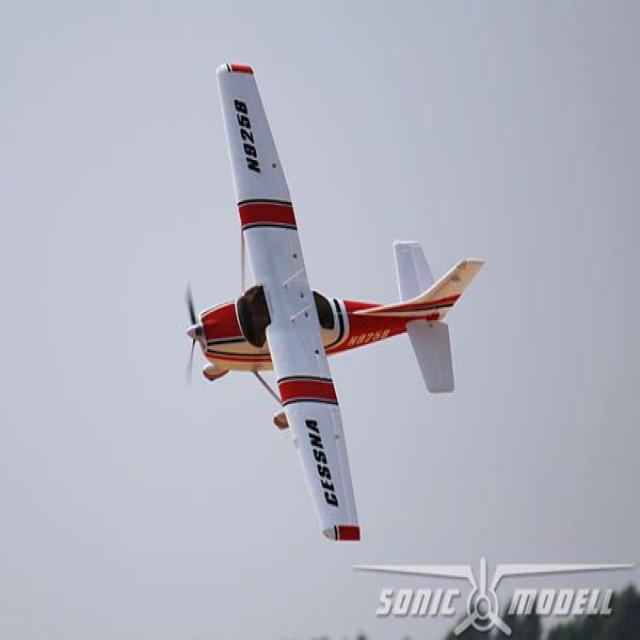iha: (186, 60, 486, 546)
